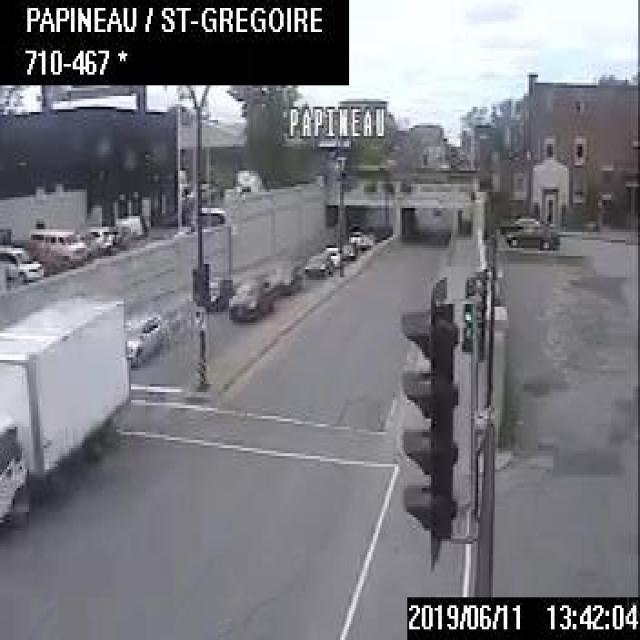vehicle: (0, 288, 133, 547), (222, 273, 274, 324), (122, 311, 168, 366), (27, 224, 88, 264), (503, 221, 560, 251), (0, 243, 44, 280), (268, 259, 300, 289), (85, 224, 116, 254), (302, 249, 333, 277), (206, 275, 231, 309), (323, 244, 339, 265)
